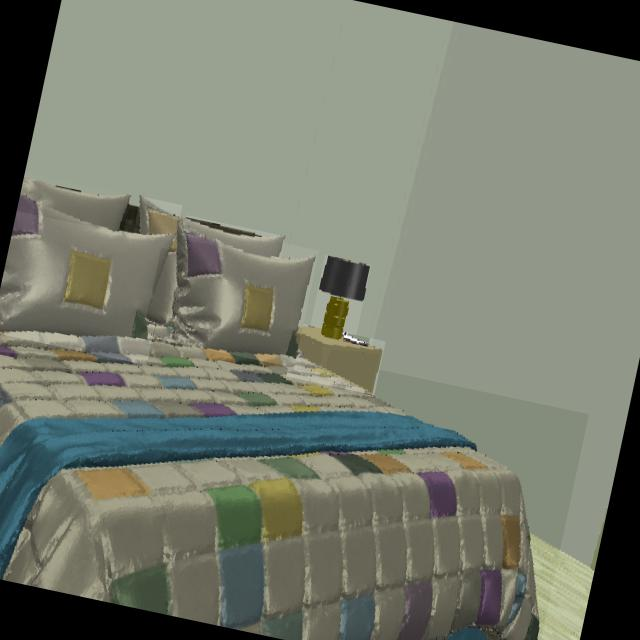bed: (0, 319, 540, 640)
book: (343, 334, 368, 346)
lamp: (317, 256, 369, 341)
nighttable: (294, 327, 382, 393)
pillow: (0, 196, 173, 339), (165, 221, 314, 357), (19, 178, 131, 232), (184, 222, 284, 258), (147, 251, 176, 325), (139, 196, 178, 235)
